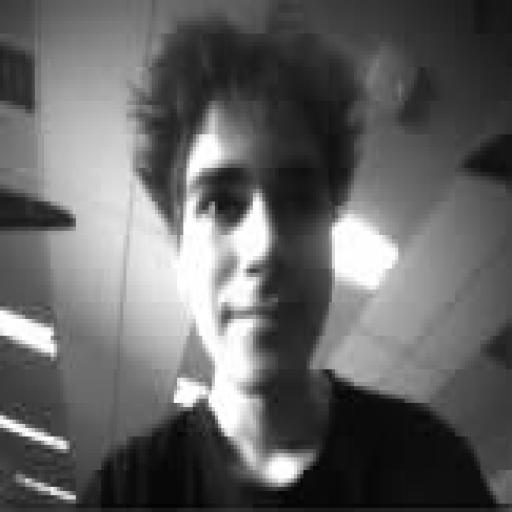human: (80, 17, 496, 507)
